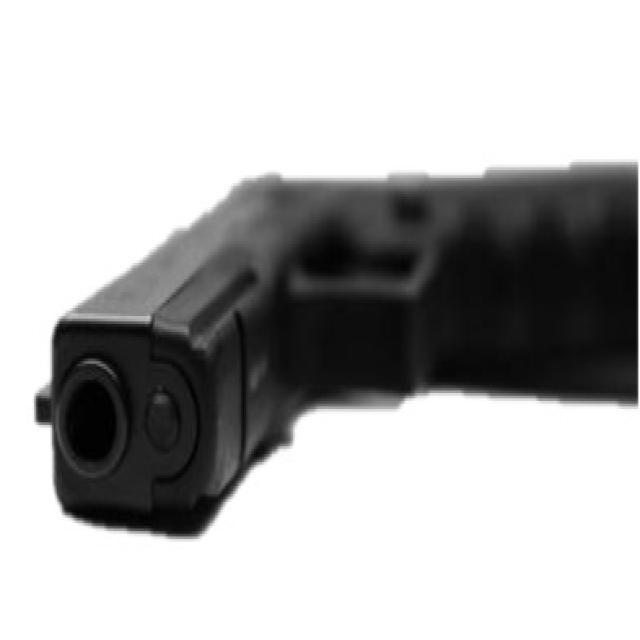pistol: (27, 161, 640, 543)
